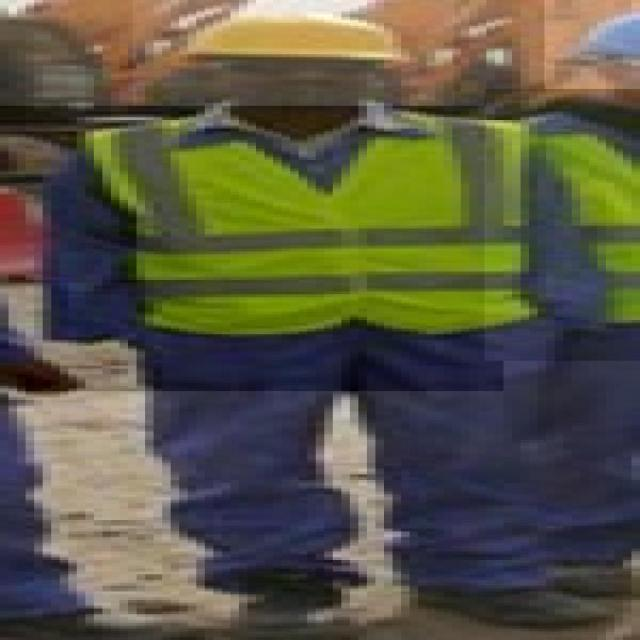Helmet: (133, 0, 455, 119), (544, 0, 639, 117)
Safety Vest: (0, 106, 504, 391), (484, 89, 640, 361)
